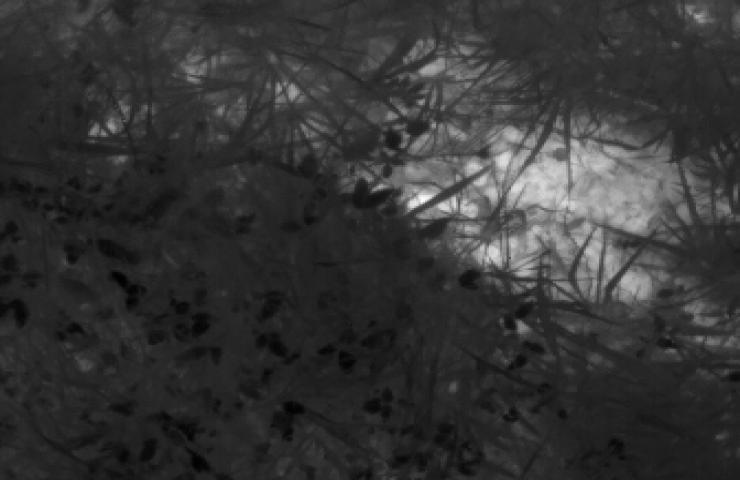landmines: (366, 34, 734, 323)
